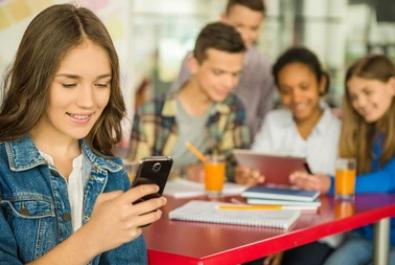phone: (0, 3, 172, 265), (233, 48, 344, 198)
